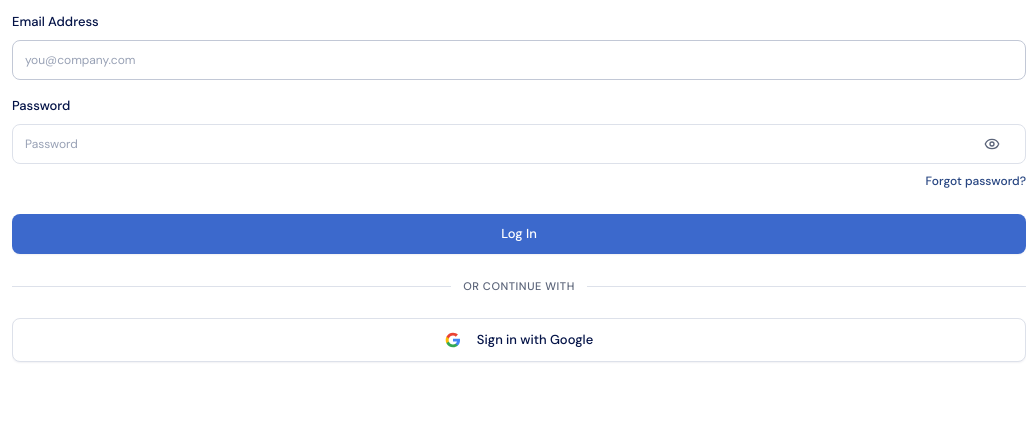
Test: LoginForm component › shows 401 error while preserving the email field value
Type "user@example.com" into the field labelled "Email Address" at (519, 60), box [12,40,1026,80]
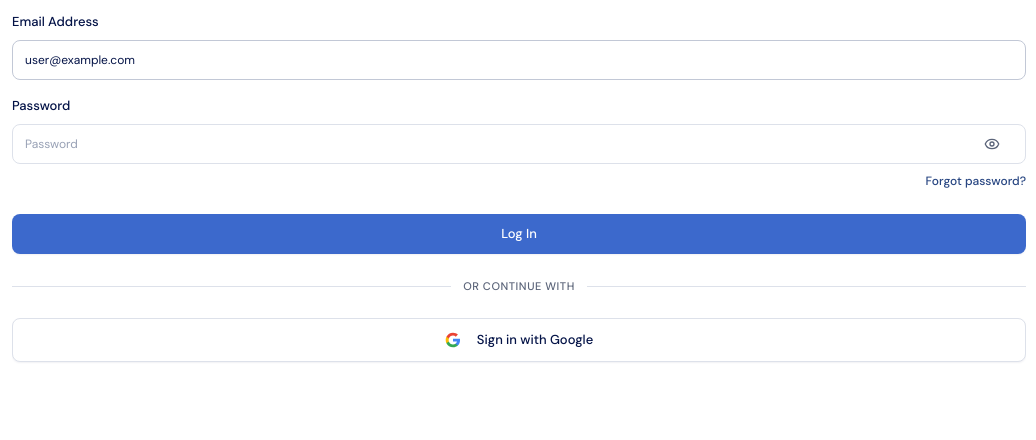
Type "wrongpassword" into the password field with placeholder "Password" at (519, 144), box [12,124,1026,164]
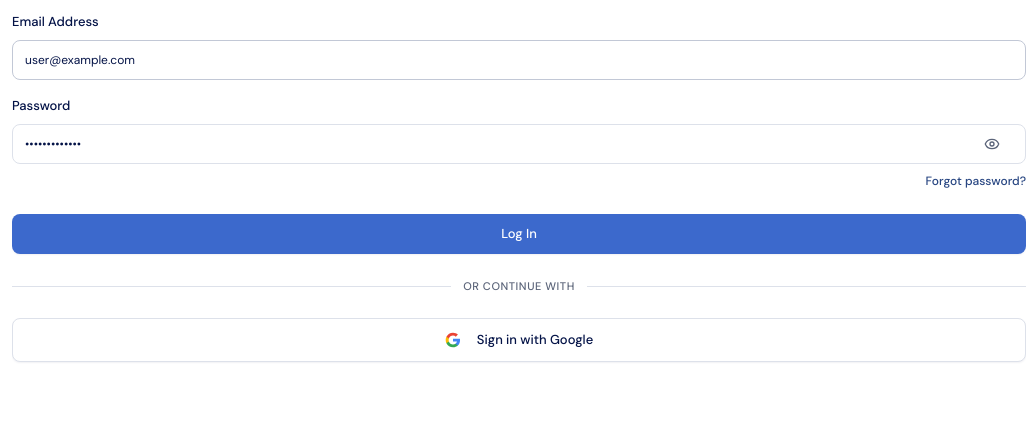
Click the button "Log In" at (519, 234), box [12,214,1026,254]
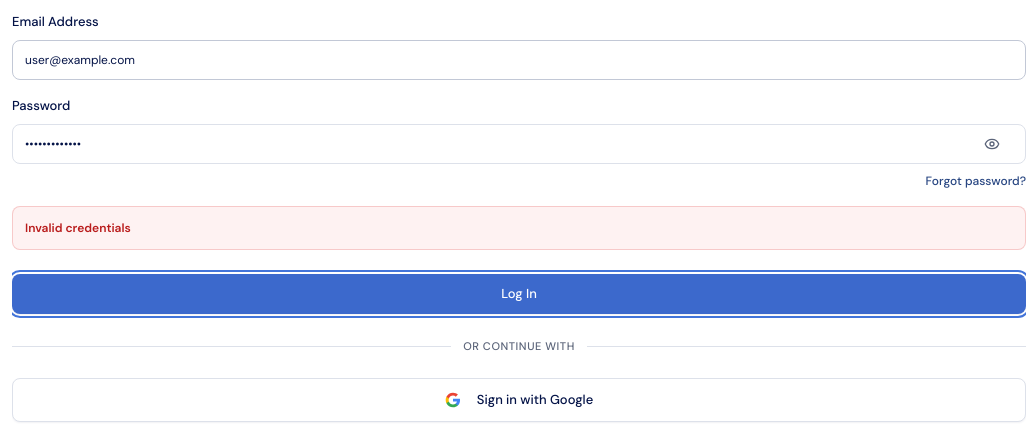
Check: the message "Invalid credentials" is shown, box [12,206,1026,250]
